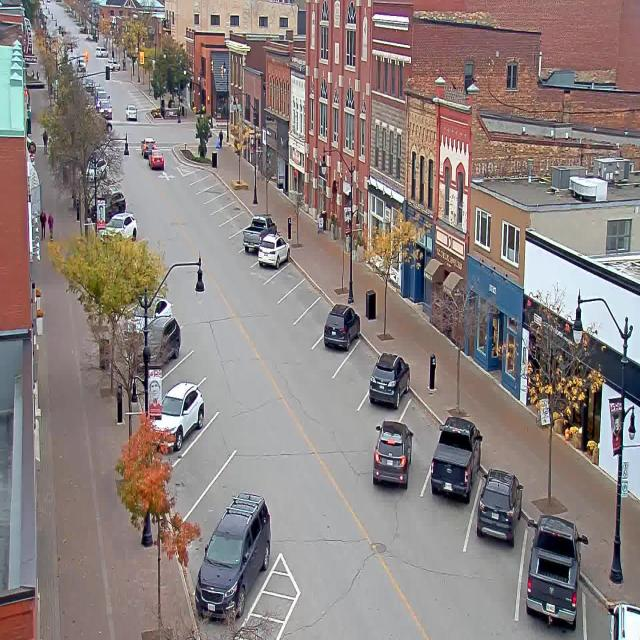available: (206, 445, 266, 507), (188, 406, 240, 472), (170, 343, 210, 391), (345, 331, 378, 386), (304, 291, 334, 335), (275, 252, 301, 294), (292, 274, 318, 313), (208, 178, 224, 199), (226, 200, 242, 220), (217, 189, 233, 208), (192, 161, 206, 182), (236, 211, 251, 230), (202, 170, 216, 189)
occupied: (194, 491, 271, 621), (526, 514, 588, 629), (430, 416, 482, 502), (149, 380, 204, 452), (476, 467, 523, 546), (372, 419, 413, 489), (369, 351, 410, 409), (323, 303, 360, 351), (242, 214, 277, 253), (606, 602, 640, 640), (257, 232, 290, 268)
